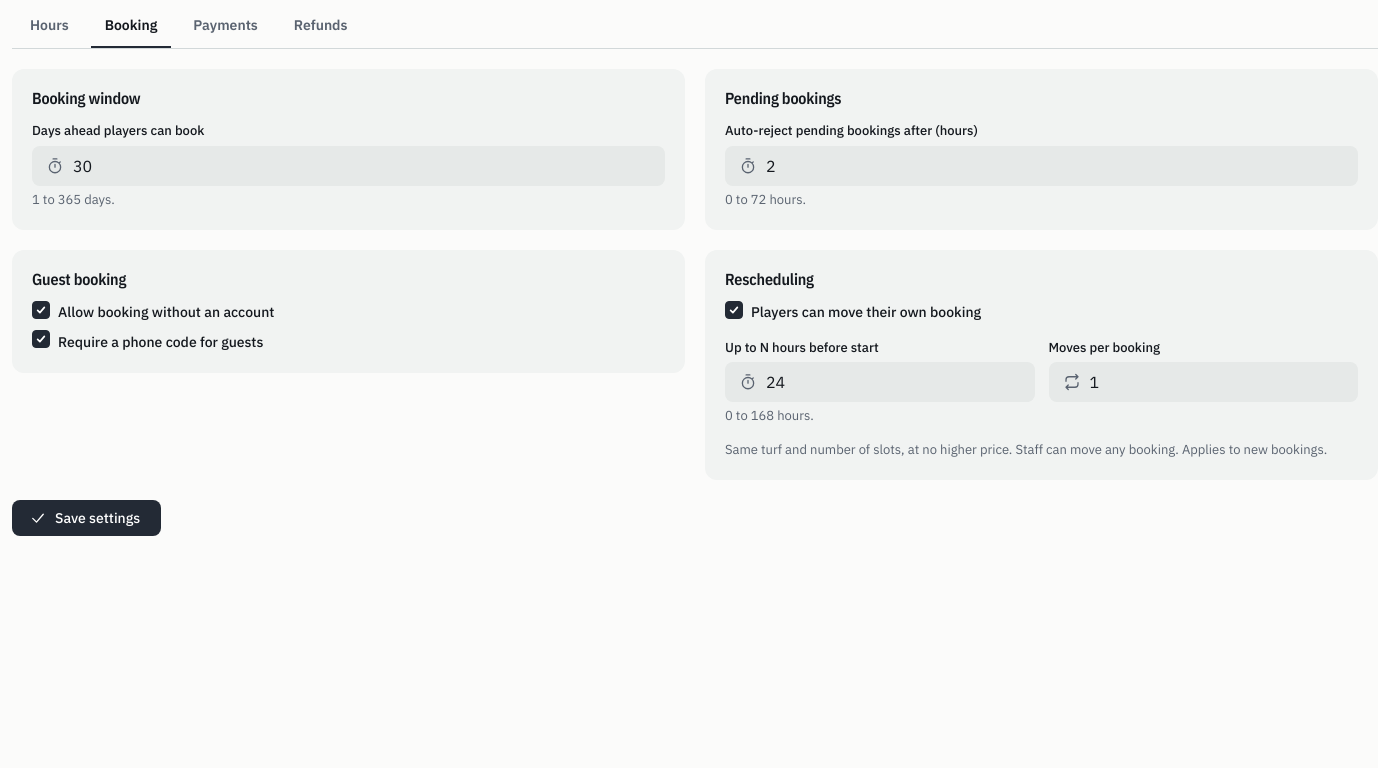
Test case: payment methods › save error no_payment_method shows its message next to the group
Replace the text in the number field labelled "Days ahead players can book" with "31" at (348, 166), box [32,146,665,186]
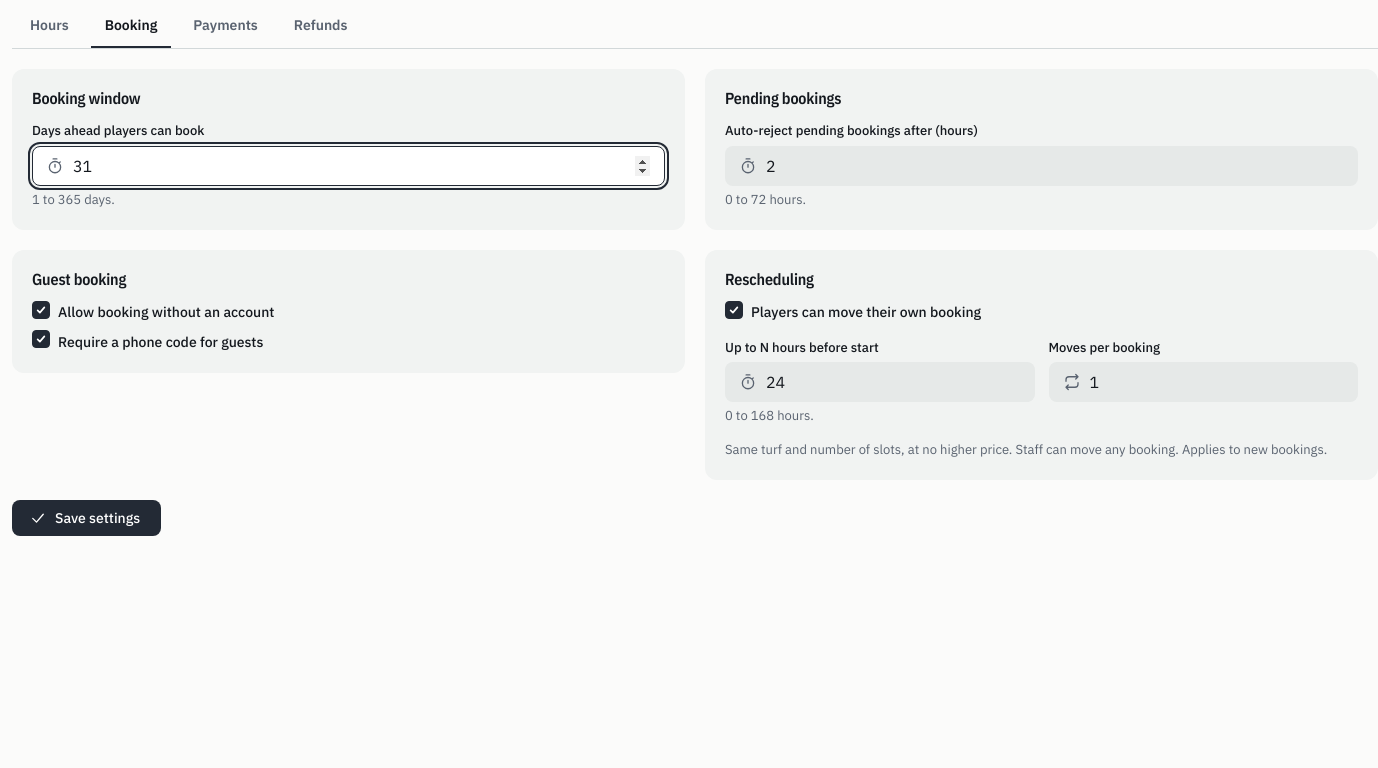
Click the button "Save settings".
click(87, 518)  # box [12,500,161,536]
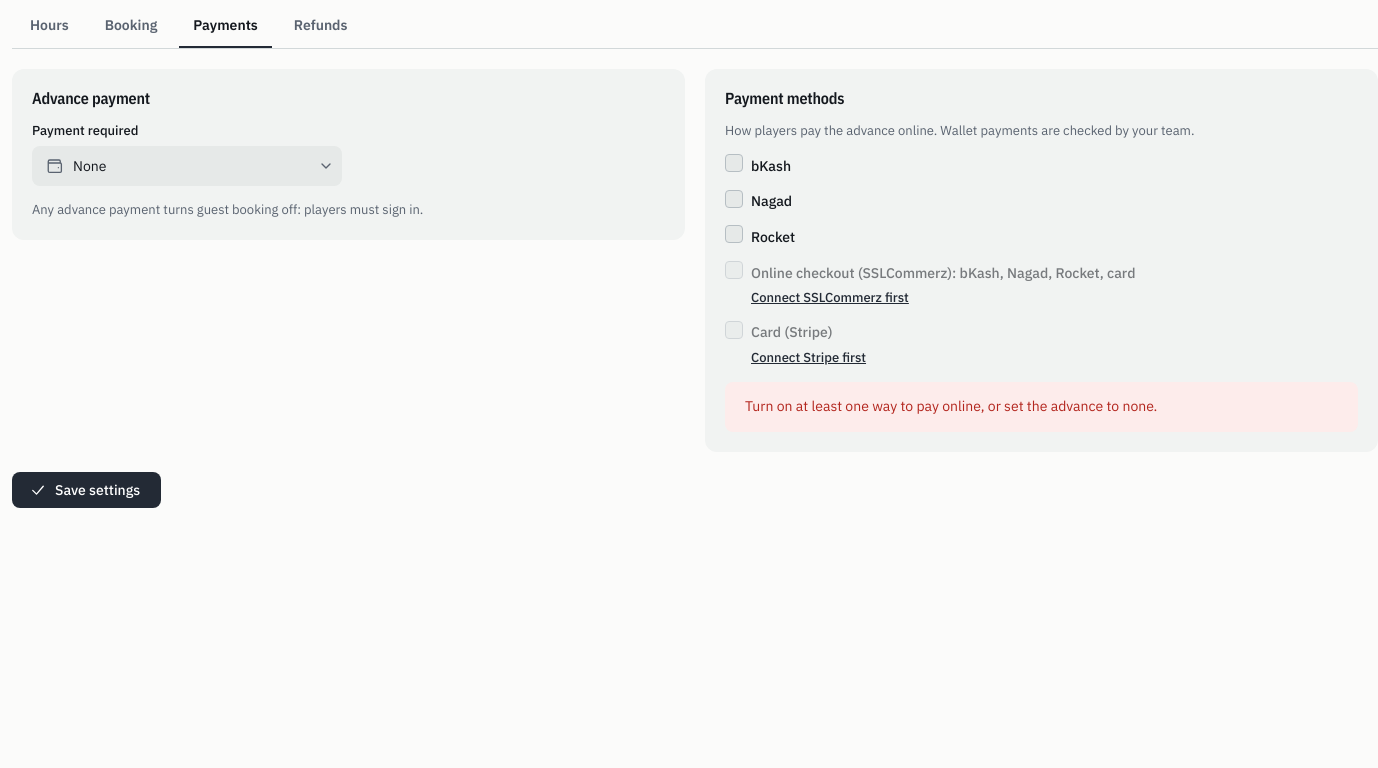
Expected: the text "Turn on at least one way to pay online, or set the advance to none." is shown, [725,382,1358,432]
